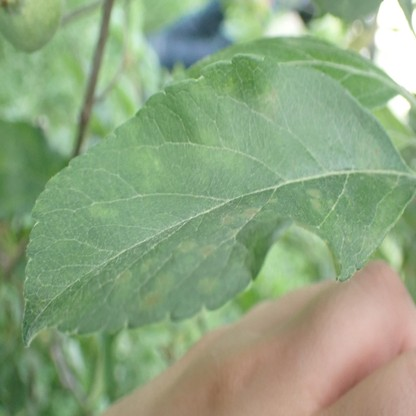scab: (192, 131, 246, 178), (126, 121, 162, 190), (359, 136, 378, 170), (265, 86, 281, 121), (87, 205, 119, 219), (140, 254, 163, 272), (305, 190, 322, 214), (196, 276, 218, 293), (156, 273, 176, 290), (141, 292, 163, 307), (220, 212, 238, 227), (242, 206, 257, 221), (178, 240, 196, 252), (118, 268, 133, 282), (199, 242, 213, 257)
